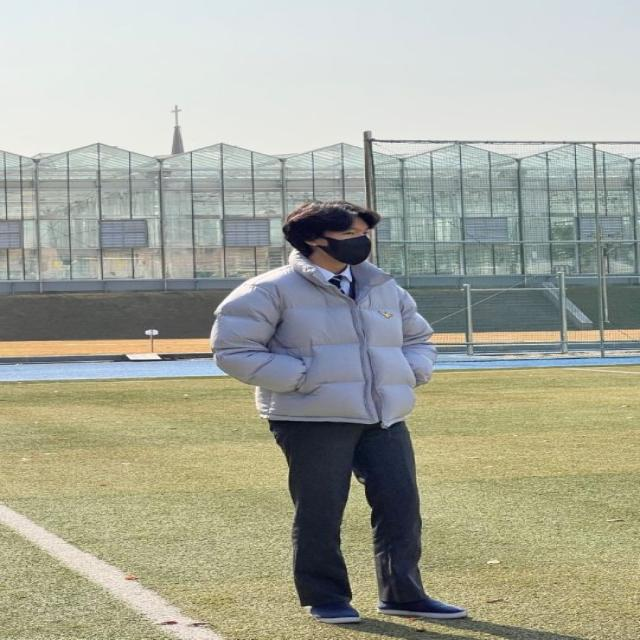denimpants: (271, 418, 424, 604)
padding: (213, 244, 433, 427)
